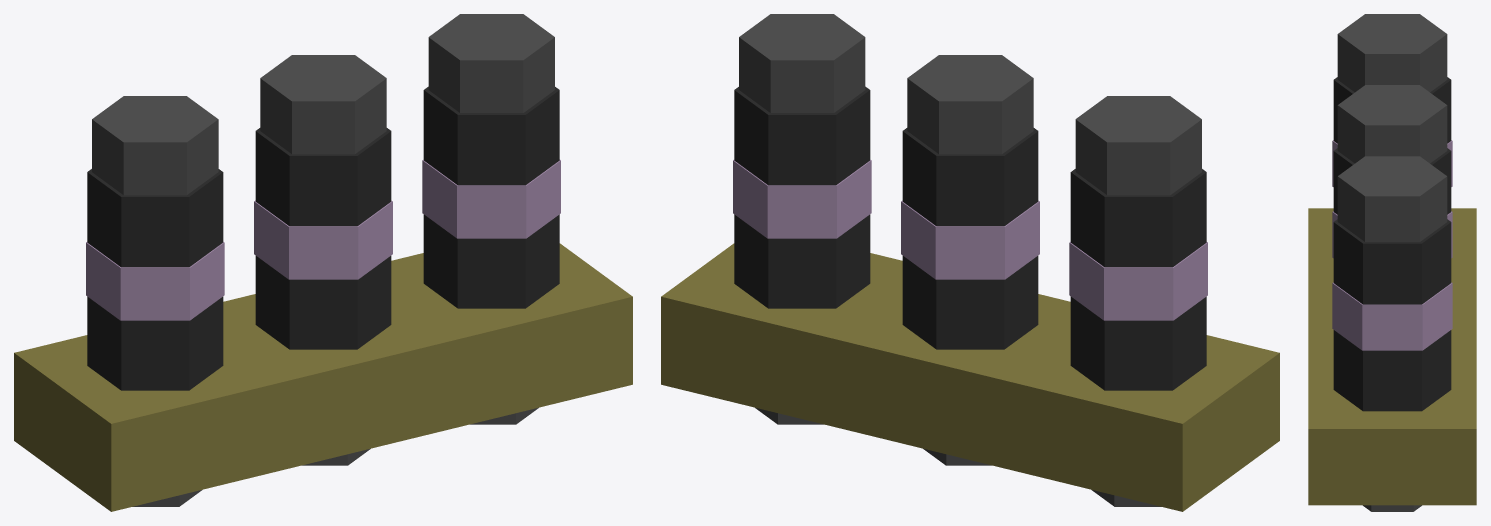
The model's file is ce_ammo2_fuel30_thermo_b.obj.
The picture shows the model from 3 angles, left to right: view 1: azimuth 30°, elevation 25°; view 2: azimuth 150°, elevation 25°; view 3: azimuth 270°, elevation 25°; orthographic projection. The views are drawn at different scales.
Visible parts, largest first — view 1: ce_ammo2_fuel30_thermo_b_3, ce_ammo2_fuel30_thermo_b_11, ce_ammo2_fuel30_thermo_b_7, ce_ammo2_fuel30_thermo_b_15, ce_ammo2_fuel30_thermo_b_10, ce_ammo2_fuel30_thermo_b_6, ce_ammo2_fuel30_thermo_b_14, ce_ammo2_fuel30_thermo_b_4, ce_ammo2_fuel30_thermo_b_12, ce_ammo2_fuel30_thermo_b_8, ce_ammo2_fuel30_thermo_b_9, ce_ammo2_fuel30_thermo_b_13 (+1 smaller); view 2: ce_ammo2_fuel30_thermo_b_3, ce_ammo2_fuel30_thermo_b_7, ce_ammo2_fuel30_thermo_b_11, ce_ammo2_fuel30_thermo_b_15, ce_ammo2_fuel30_thermo_b_10, ce_ammo2_fuel30_thermo_b_6, ce_ammo2_fuel30_thermo_b_14, ce_ammo2_fuel30_thermo_b_4, ce_ammo2_fuel30_thermo_b_8, ce_ammo2_fuel30_thermo_b_12, ce_ammo2_fuel30_thermo_b_9, ce_ammo2_fuel30_thermo_b_5 (+1 smaller); view 3: ce_ammo2_fuel30_thermo_b_3, ce_ammo2_fuel30_thermo_b_15, ce_ammo2_fuel30_thermo_b_14, ce_ammo2_fuel30_thermo_b_11, ce_ammo2_fuel30_thermo_b_7, ce_ammo2_fuel30_thermo_b_12, ce_ammo2_fuel30_thermo_b_13, ce_ammo2_fuel30_thermo_b_10, ce_ammo2_fuel30_thermo_b_6, ce_ammo2_fuel30_thermo_b_2, ce_ammo2_fuel30_thermo_b_9, ce_ammo2_fuel30_thermo_b_5.
Boxes of the visible parts, x1,y1,x2,y2 form: ce_ammo2_fuel30_thermo_b_3: [14, 243, 632, 511]; ce_ammo2_fuel30_thermo_b_11: [260, 55, 386, 154]; ce_ammo2_fuel30_thermo_b_7: [92, 96, 218, 195]; ce_ammo2_fuel30_thermo_b_15: [428, 14, 554, 112]; ce_ammo2_fuel30_thermo_b_10: [255, 128, 391, 226]; ce_ammo2_fuel30_thermo_b_6: [87, 169, 223, 267]; ce_ammo2_fuel30_thermo_b_14: [423, 86, 559, 185]; ce_ammo2_fuel30_thermo_b_4: [87, 296, 223, 390]; ce_ammo2_fuel30_thermo_b_12: [423, 214, 559, 308]; ce_ammo2_fuel30_thermo_b_8: [255, 256, 391, 349]; ce_ammo2_fuel30_thermo_b_9: [254, 200, 392, 279]; ce_ammo2_fuel30_thermo_b_13: [422, 159, 560, 238]; ce_ammo2_fuel30_thermo_b_3: [661, 243, 1279, 511]; ce_ammo2_fuel30_thermo_b_7: [1075, 96, 1201, 195]; ce_ammo2_fuel30_thermo_b_11: [907, 55, 1033, 154]; ce_ammo2_fuel30_thermo_b_15: [739, 14, 865, 112]; ce_ammo2_fuel30_thermo_b_10: [902, 128, 1038, 226]; ce_ammo2_fuel30_thermo_b_6: [1070, 169, 1206, 267]; ce_ammo2_fuel30_thermo_b_14: [734, 86, 870, 185]; ce_ammo2_fuel30_thermo_b_4: [1070, 296, 1206, 390]; ce_ammo2_fuel30_thermo_b_8: [902, 256, 1038, 349]; ce_ammo2_fuel30_thermo_b_12: [734, 214, 870, 308]; ce_ammo2_fuel30_thermo_b_9: [901, 200, 1039, 279]; ce_ammo2_fuel30_thermo_b_5: [1069, 242, 1207, 320]; ce_ammo2_fuel30_thermo_b_3: [1308, 208, 1476, 505]; ce_ammo2_fuel30_thermo_b_15: [1337, 156, 1447, 241]; ce_ammo2_fuel30_thermo_b_14: [1333, 219, 1451, 304]; ce_ammo2_fuel30_thermo_b_11: [1337, 85, 1447, 163]; ce_ammo2_fuel30_thermo_b_7: [1337, 14, 1447, 92]; ce_ammo2_fuel30_thermo_b_12: [1333, 330, 1451, 411]; ce_ammo2_fuel30_thermo_b_13: [1332, 282, 1452, 350]; ce_ammo2_fuel30_thermo_b_10: [1333, 148, 1451, 214]; ce_ammo2_fuel30_thermo_b_6: [1333, 77, 1451, 143]; ce_ammo2_fuel30_thermo_b_2: [1363, 505, 1421, 511]; ce_ammo2_fuel30_thermo_b_9: [1332, 211, 1452, 258]; ce_ammo2_fuel30_thermo_b_5: [1332, 140, 1452, 186].
Bounding box in the file's own units: 0.62 × 0.42 × 0.2.
